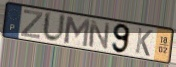9: (111, 23, 133, 55)
K: (134, 27, 154, 58)
M: (63, 15, 92, 49)
N: (88, 19, 112, 51)
U: (41, 10, 67, 44)
Z: (19, 9, 45, 41)
